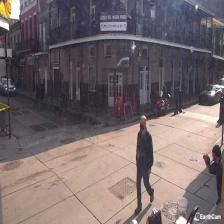person: (134, 116, 154, 212), (202, 144, 224, 224)
